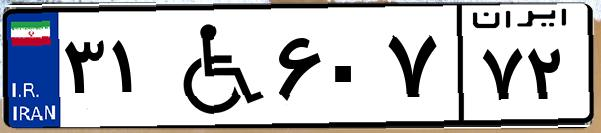0: (330, 28, 385, 110)
1: (110, 28, 158, 98)
2: (525, 38, 570, 115)
3: (57, 26, 110, 100)
6: (270, 28, 330, 110)
7: (385, 28, 445, 110), (475, 38, 525, 113)
ژ (معلولین و جانبازان): (158, 12, 270, 120)
